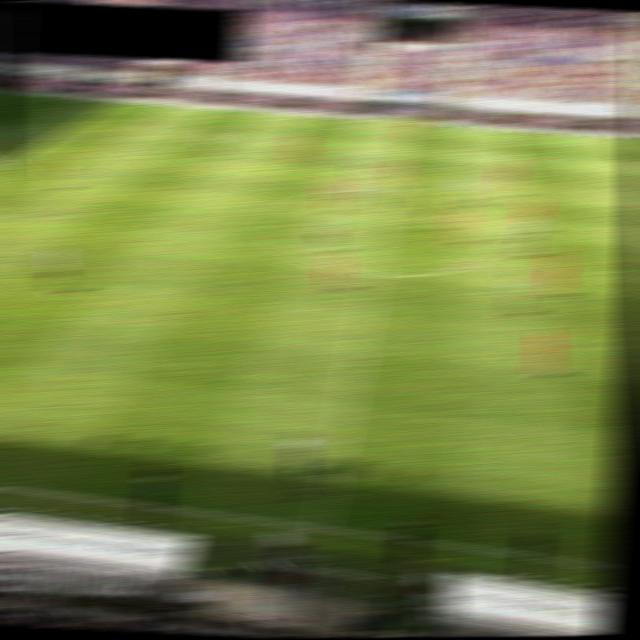bigarea_top_inner: (54, 126, 81, 138)
halfcircle_bottom: (359, 268, 389, 283)
halfcircle_top: (376, 183, 405, 198)
midline_bottom_intersection: (307, 518, 335, 536)
midline_top_intersection: (391, 118, 417, 131)
top_arc_area_intersection: (0, 159, 20, 171)
